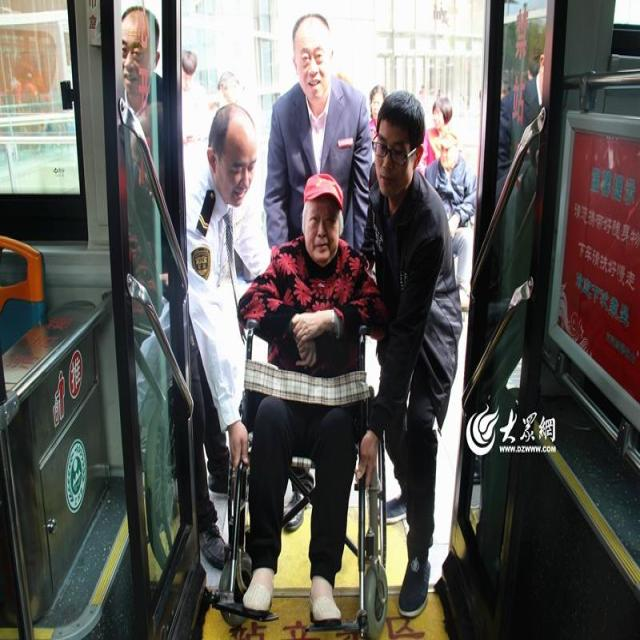wheelchairs: (210, 308, 387, 632)
